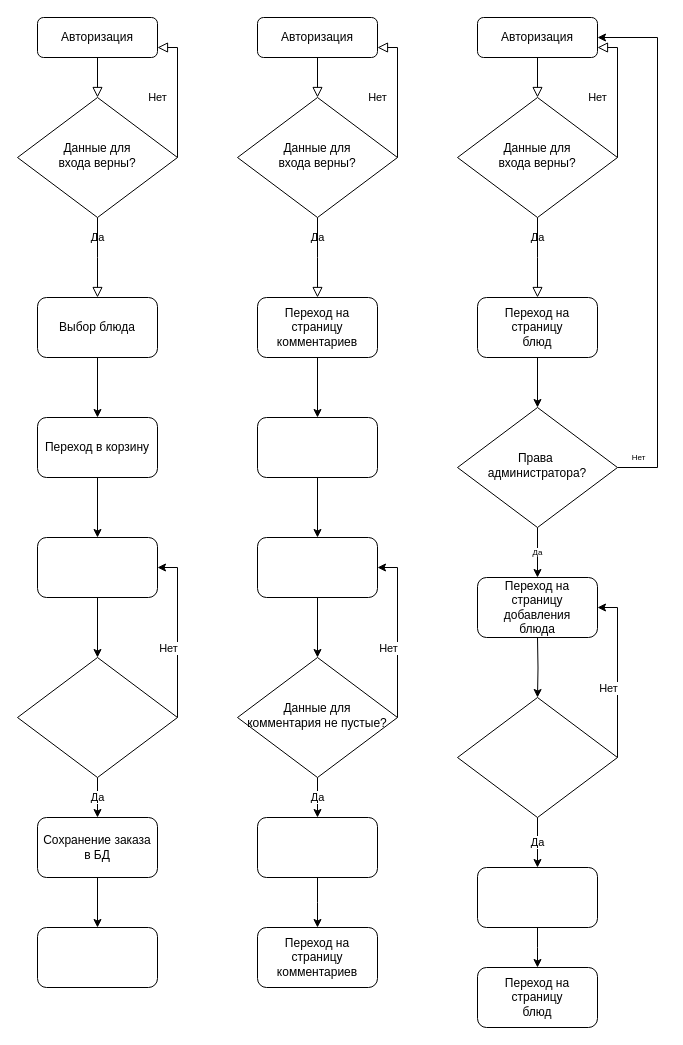
This 683x1045 diagram has some shape labels left out. The shapes that lost their labels are listed below. From the top down, each one's centre as x and y in pixels, then its label:
the point at 317,447: Переход на страницу добавления комментариев
the point at 97,567: Ввод данных для заказа
the point at 317,567: Ввод комментария
the point at 97,717: Данные для доставки верны?
the point at 537,757: Данные для блюда не пустые?
the point at 317,847: Сохранение комментария в БД
the point at 537,897: Сохранение блюда в БД
the point at 97,957: Переход на главную страницу
